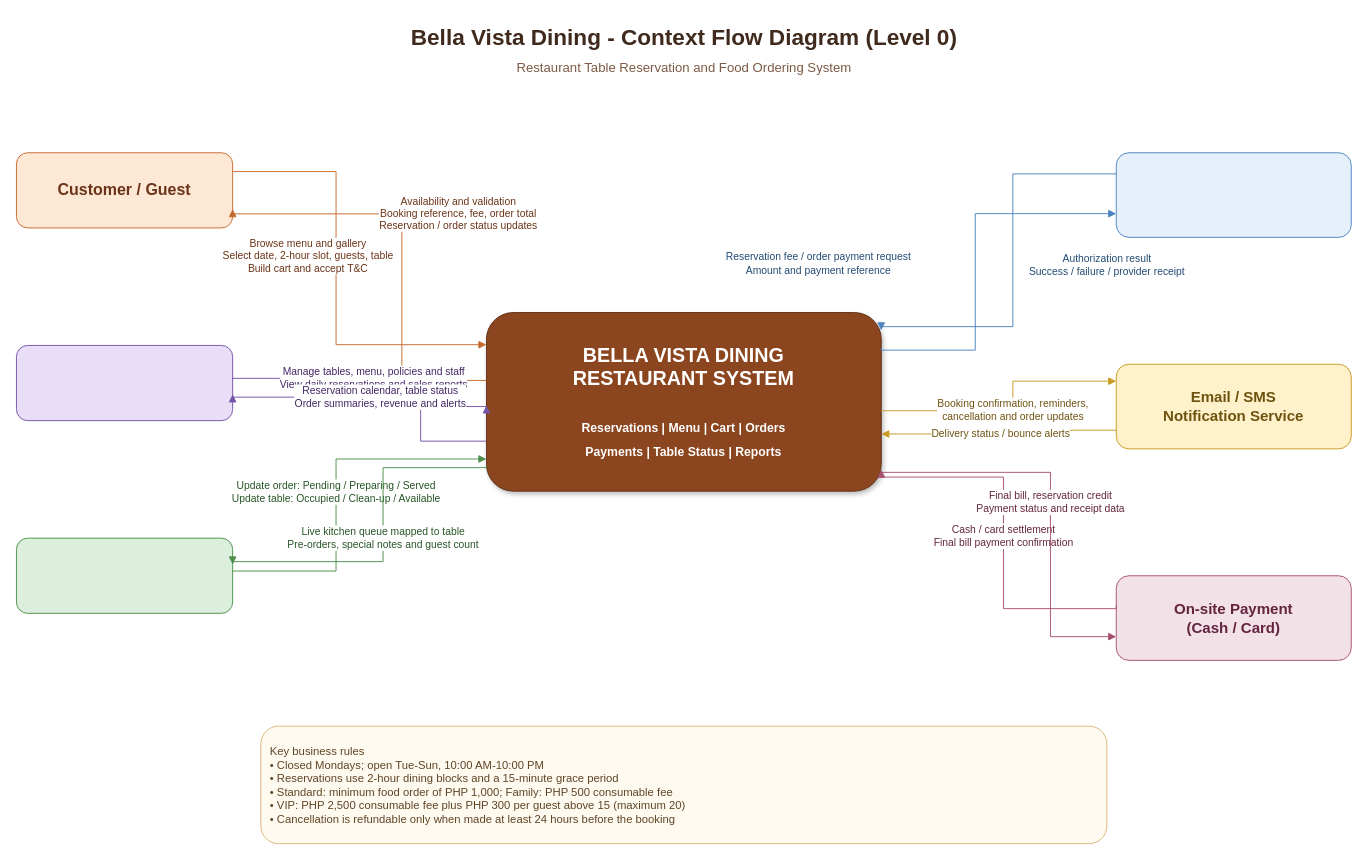
The diagram is 1368 pixels wide and 860 high, and some of its shapes have lost their labels. The shapes that lost their labels are listed below. From the top down, each one's centre as x and y in pixels, then its label:
At (x=1233, y=194): "Payment Gateway (Online Downpayment / Full)".
At (x=124, y=383): "Restaurant Manager".
At (x=124, y=575): "Kitchen / Waitstaff".
